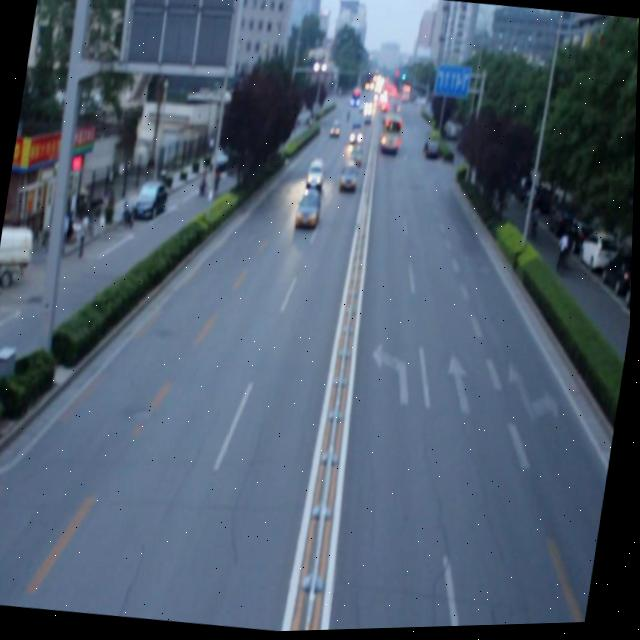car: (295, 187, 323, 229)
